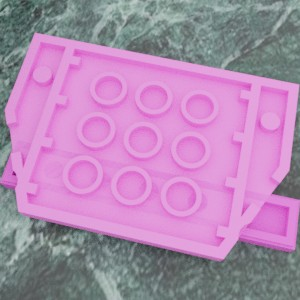lego: (4, 32, 299, 261), (0, 138, 299, 252)
